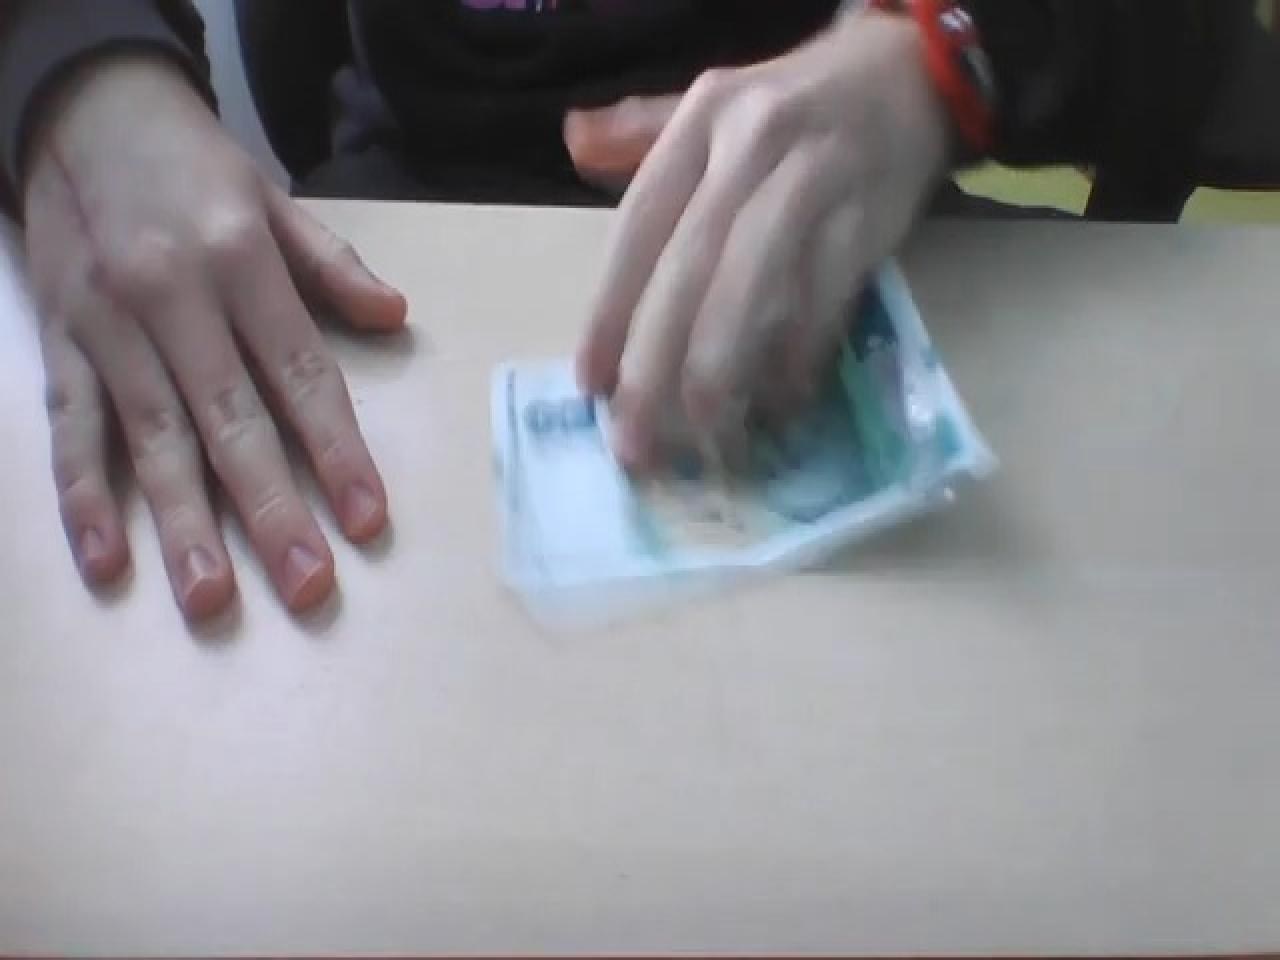100leva: (486, 253, 996, 619)
